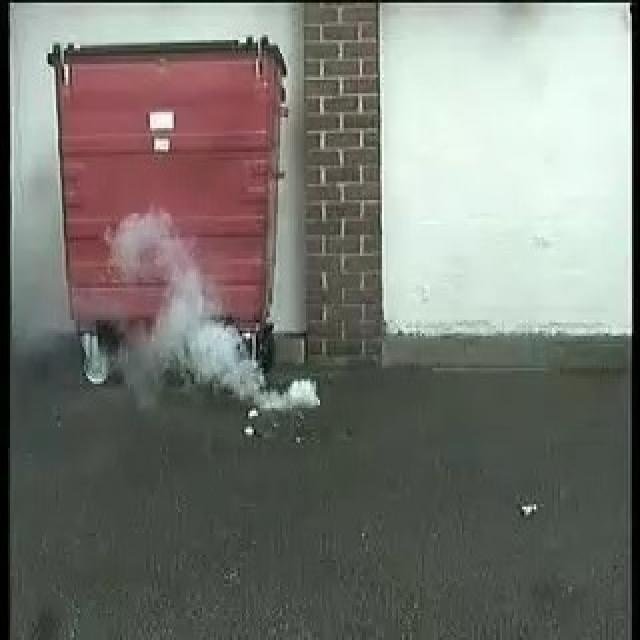smoke: (105, 210, 318, 404)
